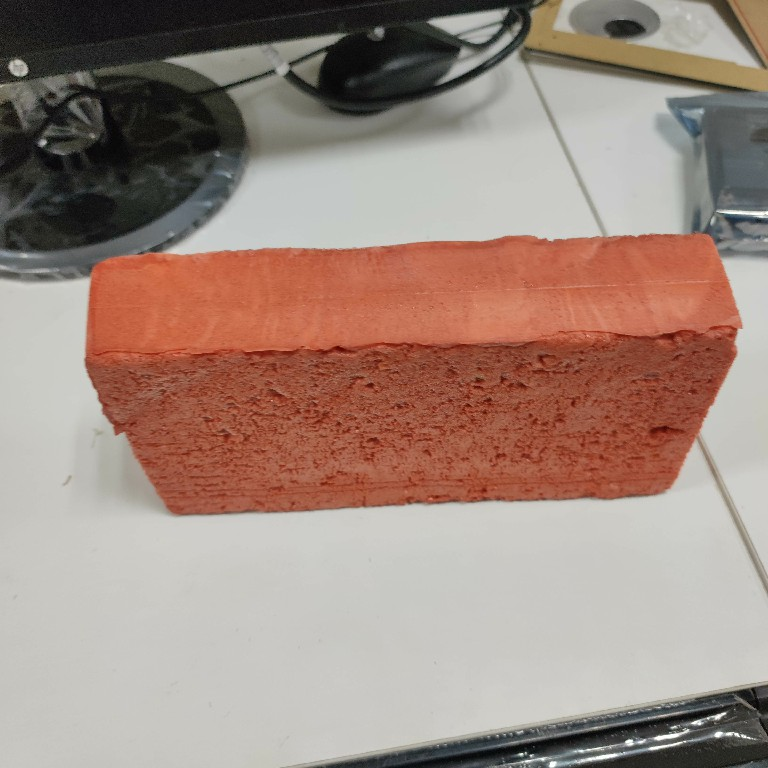brick: (81, 229, 751, 519)
